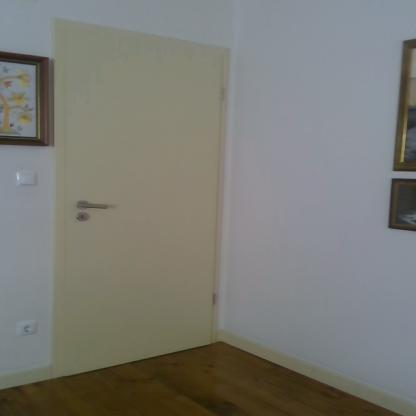door: (64, 28, 222, 377)
hinged: (219, 86, 226, 100), (211, 291, 217, 307)
lever: (77, 200, 111, 210)
